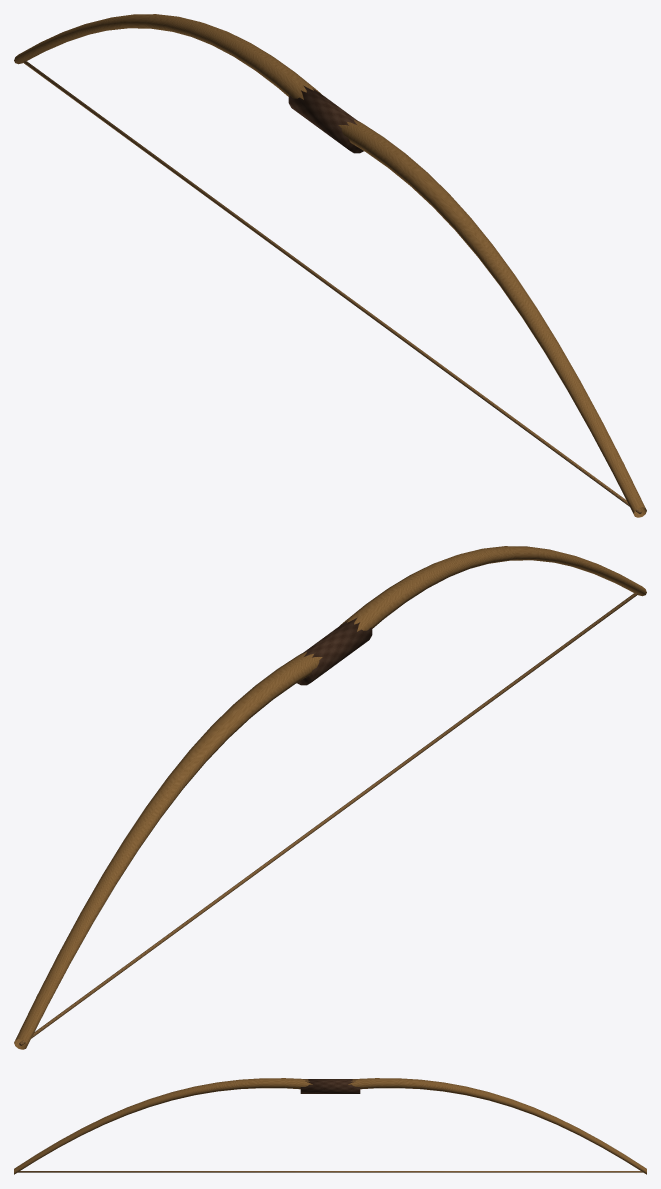
The model's file is kalari_bow.glb.
3 renders of one model, top to bottom at view 1: azimuth 30°, elevation 25°; view 2: azimuth 150°, elevation 25°; view 3: azimuth 270°, elevation 25°, orthographic. The views are drawn at different scales.
Visible parts, largest first — view 1: Kalari_Villu_Bow; view 2: Kalari_Villu_Bow; view 3: Kalari_Villu_Bow.
Part boxes in pixels (<box>): Kalari_Villu_Bow: <box>14,14,646,517</box>; Kalari_Villu_Bow: <box>14,546,646,1049</box>; Kalari_Villu_Bow: <box>14,1078,646,1174</box>.
Size of the model in its own units: 0.0341 by 0.2459 by 1.48.
3 materials, 3 textured.
